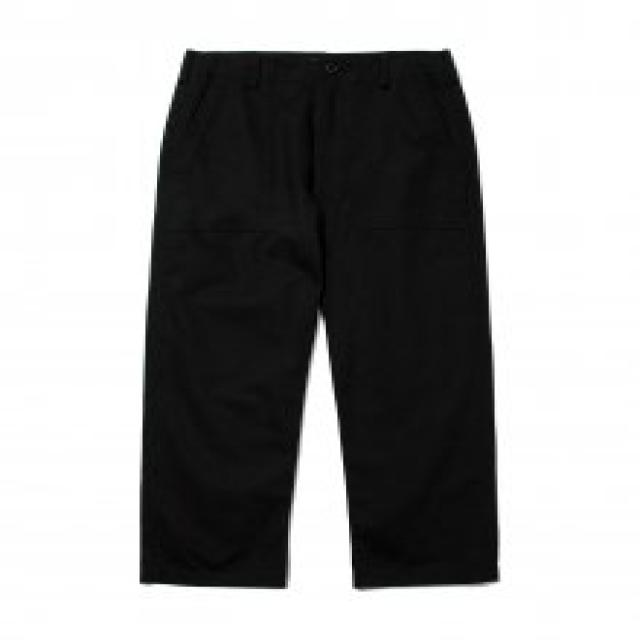long-pants: (143, 51, 500, 592)
